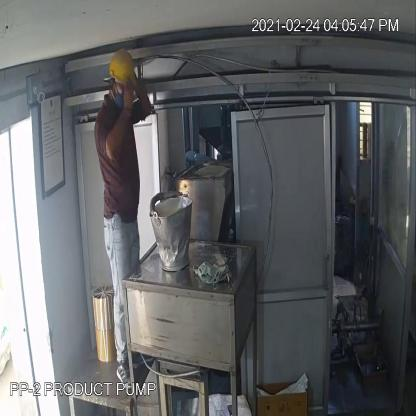helmet: (105, 48, 142, 94)
